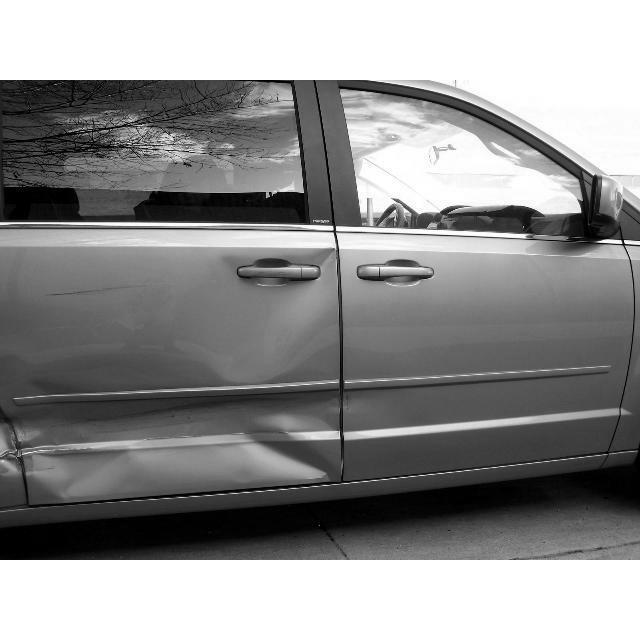doorouter-dent: (0, 191, 346, 517)
